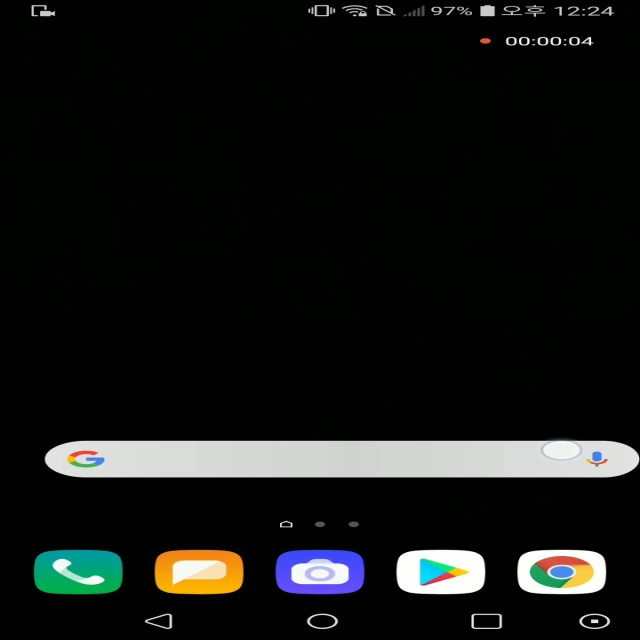Cursor: (539, 440, 584, 463)
